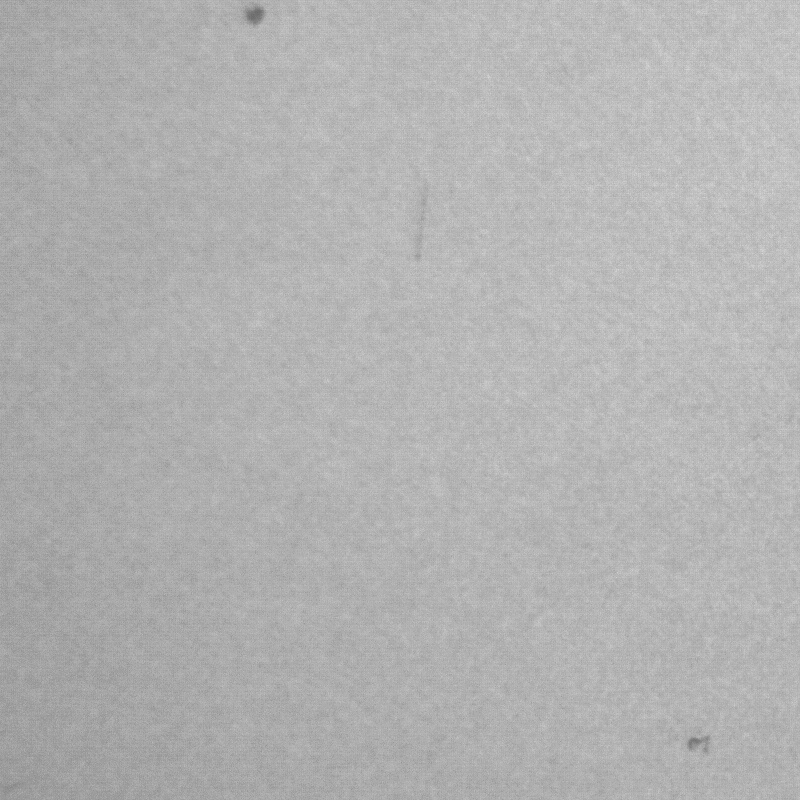defect: (415, 183, 432, 264), (690, 732, 715, 762), (244, 7, 271, 33)
